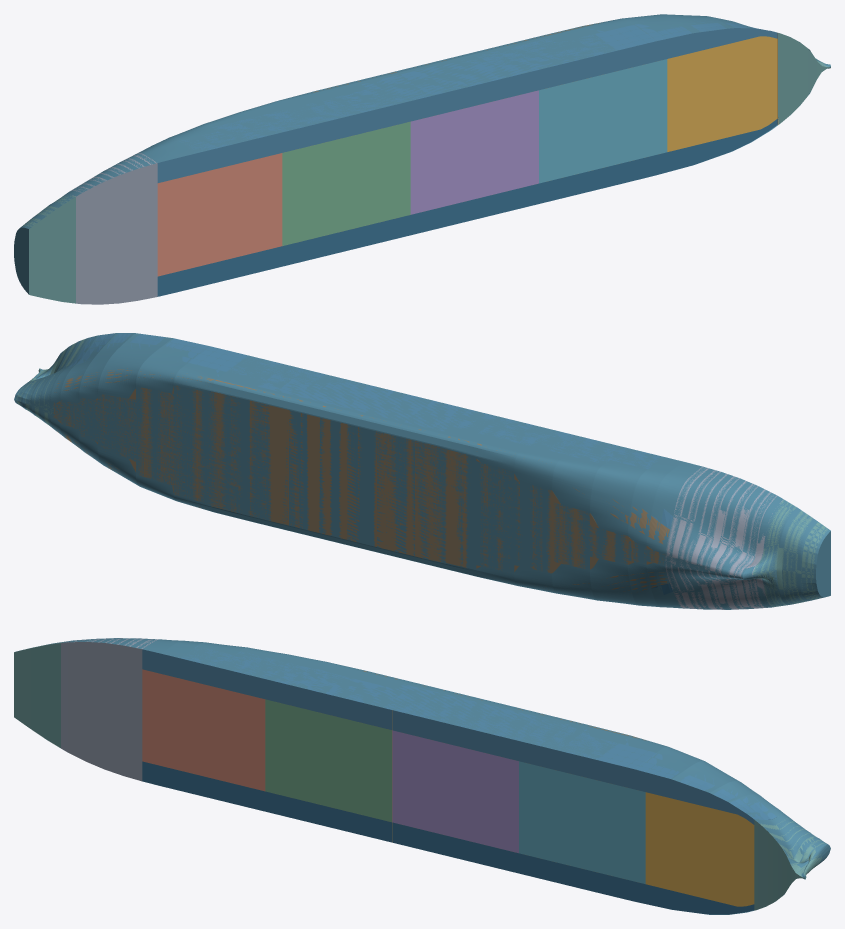
File: ship_display.obj
3 renders of one model, top to bottom at view 1: azimuth 30°, elevation 25°; view 2: azimuth 150°, elevation 25°; view 3: azimuth 330°, elevation 25°, orthographic.
Visible parts, largest first — view 1: HULL, HOLD_2, HOLD_4, HOLD_3, HOLD_5, ENGINE_ROOM, HOLD_1, WBT_3_P, WBT_2_P, WBT_4_P, AFT_PEAK, WBT_5_P (+7 smaller); view 2: HULL, DB_3, DB_2, ENGINE_ROOM, DB_4, DB_5, DB_1, AFT_PEAK, WBT_3_P, WBT_2_P, WBT_4_P, WBT_5_P (+2 smaller); view 3: HULL, HOLD_4, HOLD_2, HOLD_3, HOLD_5, ENGINE_ROOM, HOLD_1, WBT_3_P, WBT_2_P, WBT_4_P, AFT_PEAK, WBT_5_P (+7 smaller).
Boxes of the visible parts, box(x1,y1,x2,y2) form: HULL: box(14, 14, 830, 294); HOLD_2: box(539, 59, 667, 183); HOLD_4: box(282, 121, 410, 245); HOLD_3: box(410, 90, 538, 214); HOLD_5: box(157, 153, 282, 276); ENGINE_ROOM: box(71, 153, 157, 304); HOLD_1: box(667, 36, 777, 151); WBT_3_P: box(382, 50, 538, 121); WBT_2_P: box(509, 22, 667, 90); WBT_4_P: box(262, 80, 410, 152); AFT_PEAK: box(22, 195, 75, 303); WBT_5_P: box(157, 116, 282, 182); HULL: box(14, 333, 830, 609); DB_3: box(289, 399, 419, 556); DB_2: box(162, 376, 290, 525); ENGINE_ROOM: box(665, 466, 783, 609); DB_4: box(415, 429, 542, 571); DB_5: box(546, 488, 669, 593); DB_1: box(53, 368, 162, 481); AFT_PEAK: box(752, 500, 827, 606); WBT_3_P: box(297, 377, 452, 426); WBT_2_P: box(177, 344, 324, 394); WBT_4_P: box(424, 405, 575, 451); WBT_5_P: box(557, 436, 672, 529); HULL: box(15, 638, 830, 914); HOLD_4: box(265, 699, 391, 822); HOLD_2: box(519, 761, 645, 883); HOLD_3: box(392, 730, 518, 853); HOLD_5: box(142, 669, 265, 791); ENGINE_ROOM: box(61, 638, 158, 781); HOLD_1: box(645, 792, 754, 906); WBT_3_P: box(392, 688, 547, 760); WBT_2_P: box(519, 720, 662, 791); WBT_4_P: box(265, 663, 421, 729); AFT_PEAK: box(14, 642, 63, 748); WBT_5_P: box(142, 646, 285, 698).
Size of the model in its own units: 180 by 28.8 by 15.1.
